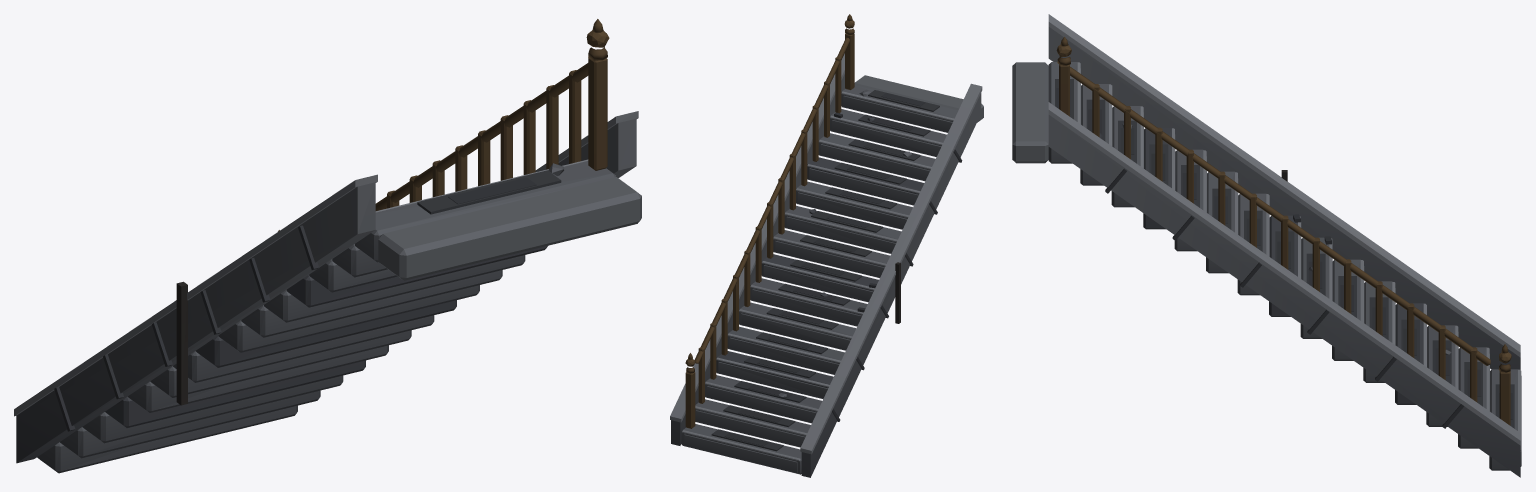
Rendered from dun-descent-stair.glb.
3 renders of one model, left to right at view 1: azimuth 30°, elevation 25°; view 2: azimuth 150°, elevation 25°; view 3: azimuth 270°, elevation 25°, orthographic. The views are drawn at different scales.
Parts seen in each view (by area): view 1: dun_descent_stair; view 2: dun_descent_stair; view 3: dun_descent_stair.
Boxes of the visible parts, x1,y1,x2,y2 form: dun_descent_stair: (14, 19, 641, 473); dun_descent_stair: (670, 14, 983, 477); dun_descent_stair: (1012, 14, 1521, 477).
Size of the model in its own units: 1.91 by 3.94 by 4.21.
